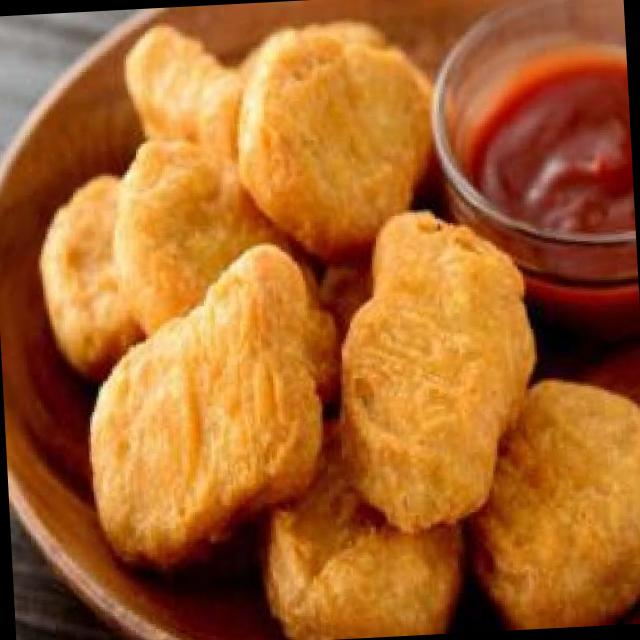chicken_nuggets: (42, 9, 640, 640)
